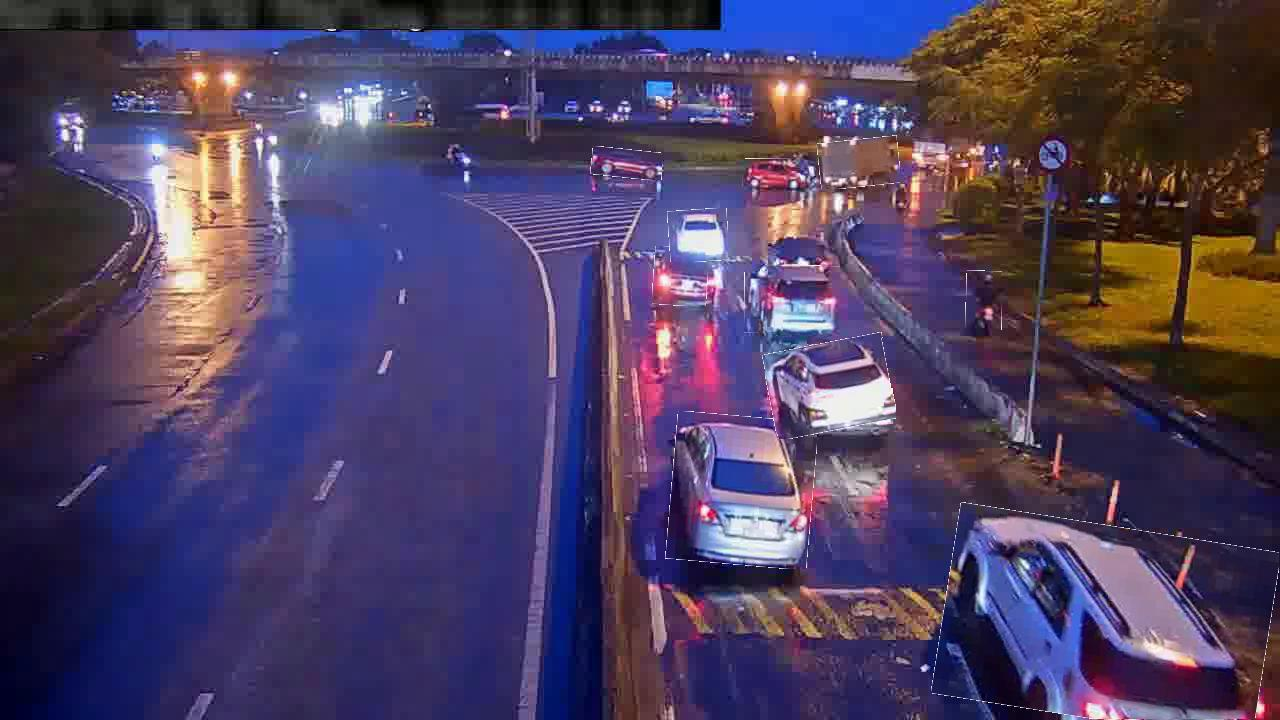8: (818, 137, 900, 188)
container: (937, 514, 1275, 719), (668, 414, 815, 568), (766, 338, 894, 435), (745, 266, 841, 334), (653, 247, 709, 307), (668, 209, 729, 263), (591, 148, 663, 180), (742, 159, 802, 187)
motorbike: (966, 271, 1003, 332)
